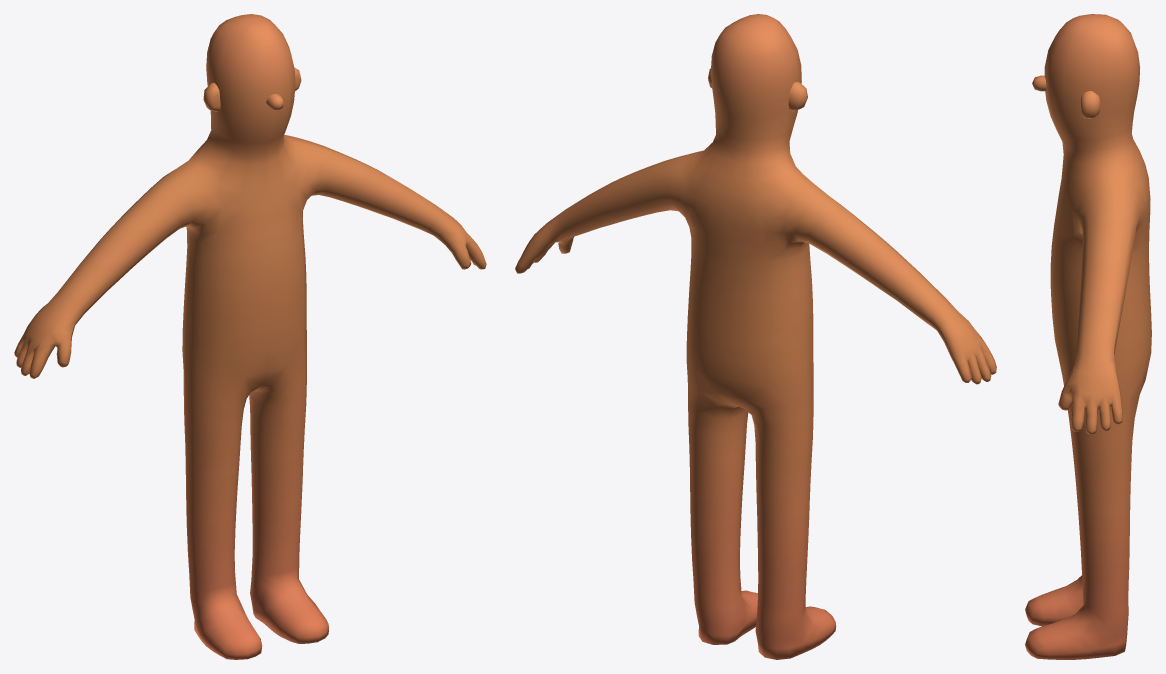
Rendered from u_body_body_010_static.glb.
3 views of the same model, side by side, from view 1: azimuth 30°, elevation 25°; view 2: azimuth 150°, elevation 25°; view 3: azimuth 270°, elevation 25° (orthographic). The views are drawn at different scales.
Parts seen in each view (by area): view 1: body_1.001; view 2: body_1.001; view 3: body_1.001.
Boxes of the visible parts, <box> form: body_1.001: <box>14,14,486,659</box>; body_1.001: <box>515,14,996,659</box>; body_1.001: <box>1025,14,1151,659</box>.
Size of the model in its own units: 1.44 by 1.82 by 0.3401.
1 material, 1 textured.
